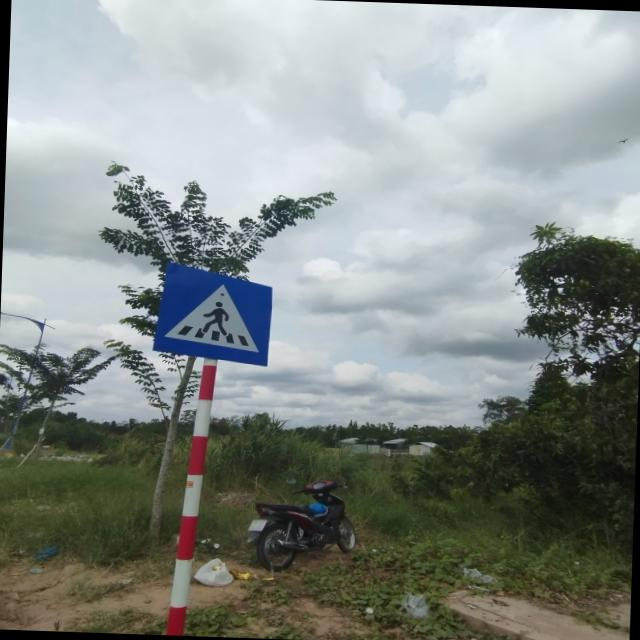Giao_Nhau_Duong_Uu_Tien: (150, 260, 272, 366)
